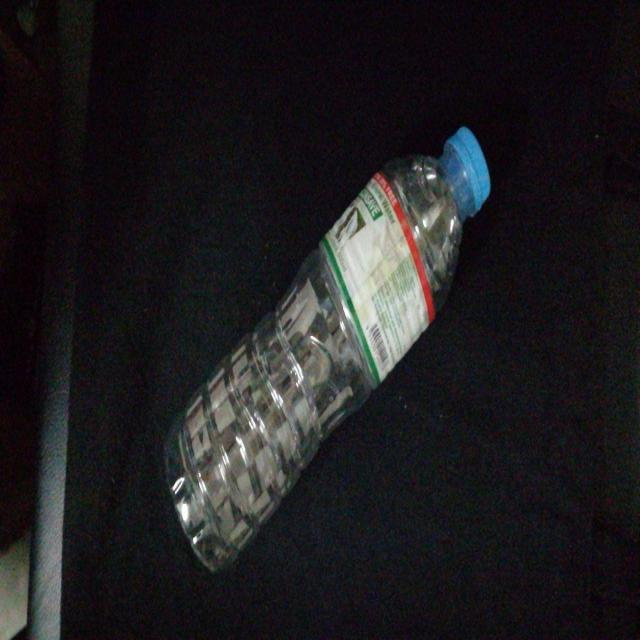Pet_Bottle: (168, 122, 491, 578)
